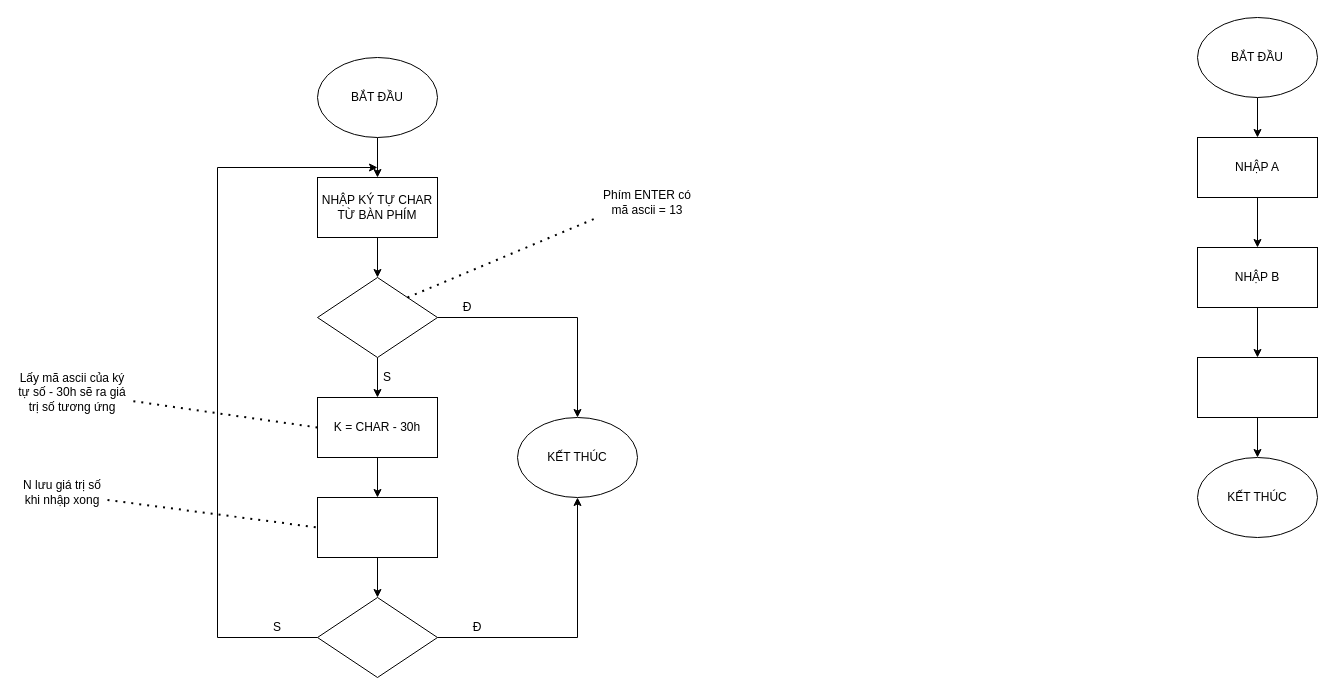
Some shapes in this 1335 by 695 pixel diagram are drawn without their labels. Here are the shapes that lost their labels. From the top down, the centre of each, then its label:
At pixel 377 317: "PHÍM ENTER ? (CHAR = 13)".
At pixel 1257 387: "SUM = A + B".
At pixel 377 527: "N = N * 10 + K".
At pixel 377 637: "NHẬP ĐỦ 2 KÝ TỰ ?".
